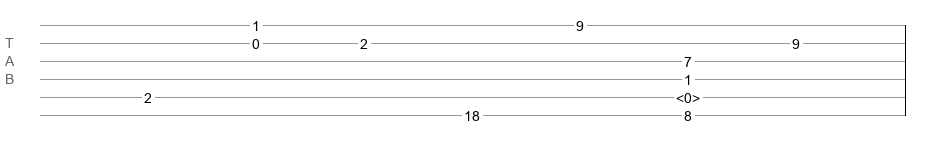0: (252, 36, 260, 46)
1: (252, 18, 260, 28), (684, 72, 692, 82)
18: (464, 108, 480, 118)
2: (144, 90, 152, 100), (360, 36, 368, 46)
7: (684, 54, 692, 64)
8: (684, 108, 692, 118)
9: (576, 18, 584, 28), (792, 36, 800, 46)
harmonic: (676, 90, 700, 100)
